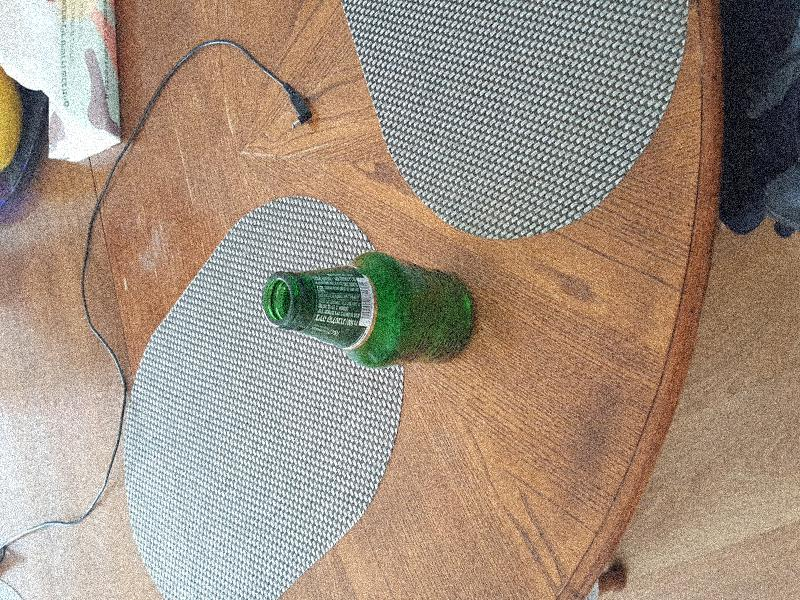Beer: (260, 255, 475, 366)
